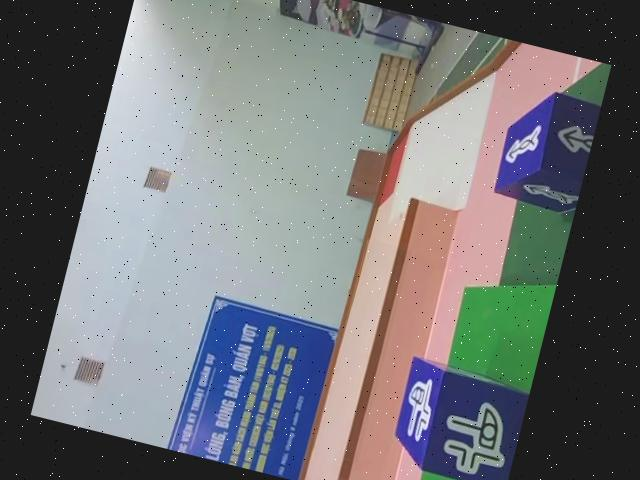R2 Real Blue: (385, 354, 531, 480), (489, 81, 602, 216)
